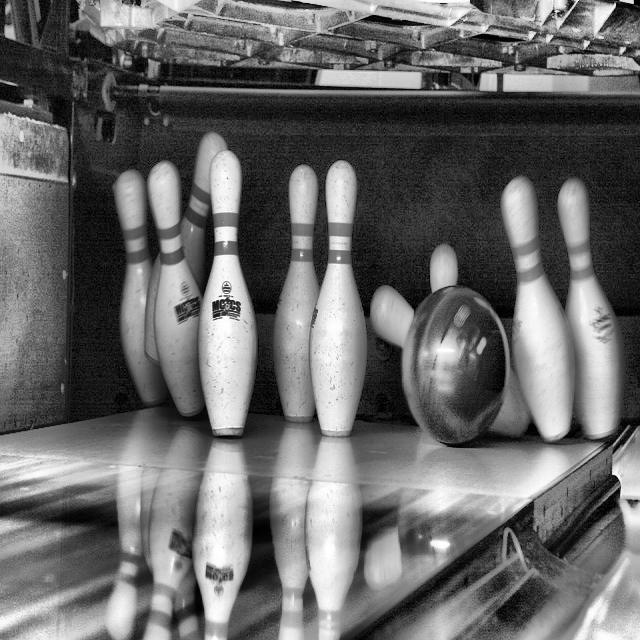bowling-ball: (403, 287, 510, 444)
bowling-pins: (310, 160, 367, 437), (273, 165, 320, 422)
